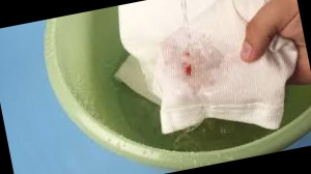blood: (181, 50, 196, 77)
